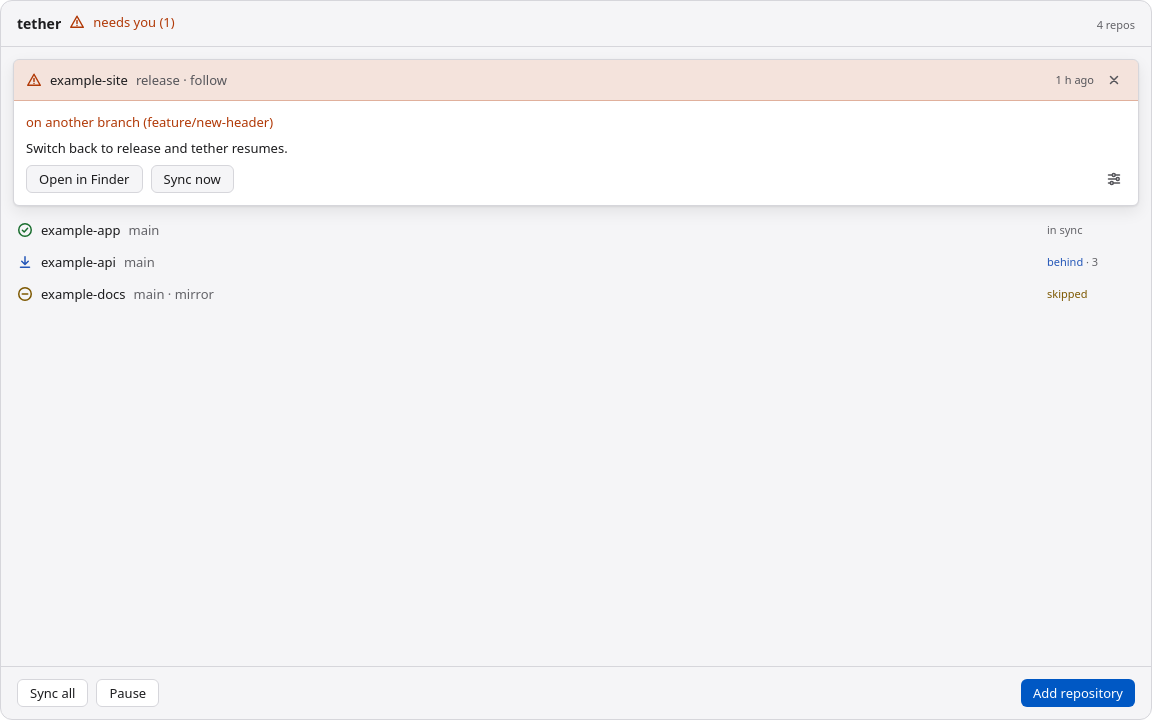
Scenario: Repo settings › opens from a needs-you callout
What coordinates should you click on to do the following:
click the button named "Settings"
I would click on:
 (1114, 179)
Its box is [1102,167,1126,191].
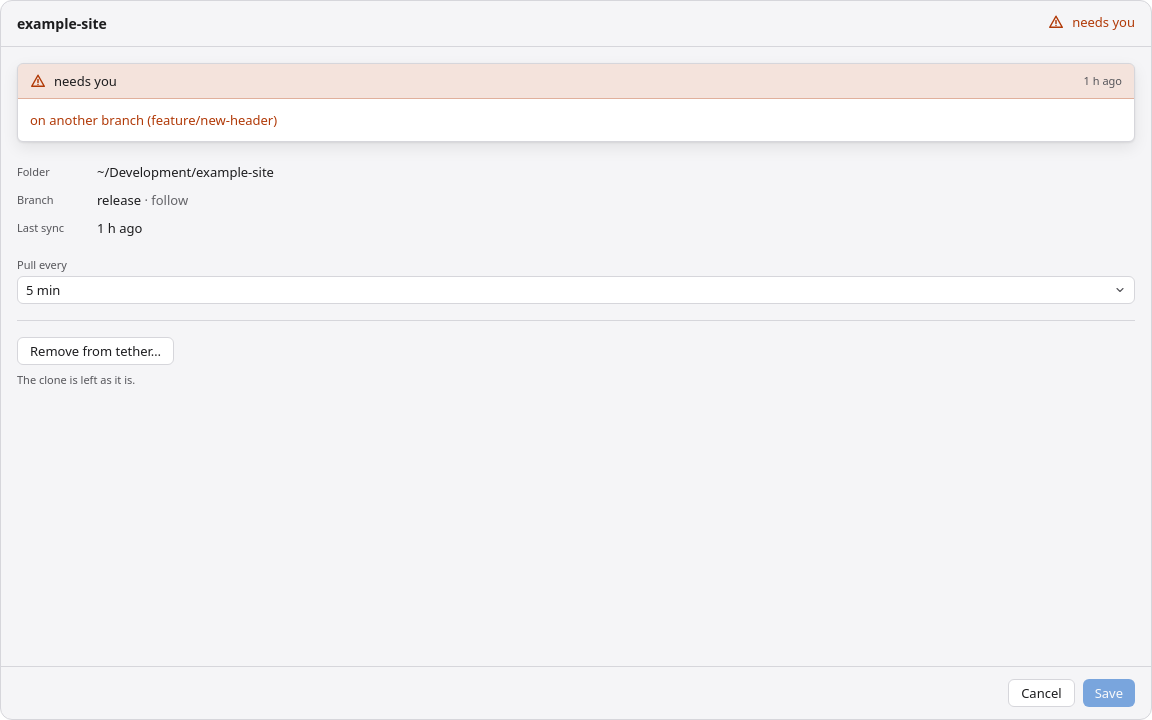
Check: the form named "example-site settings" is shown
